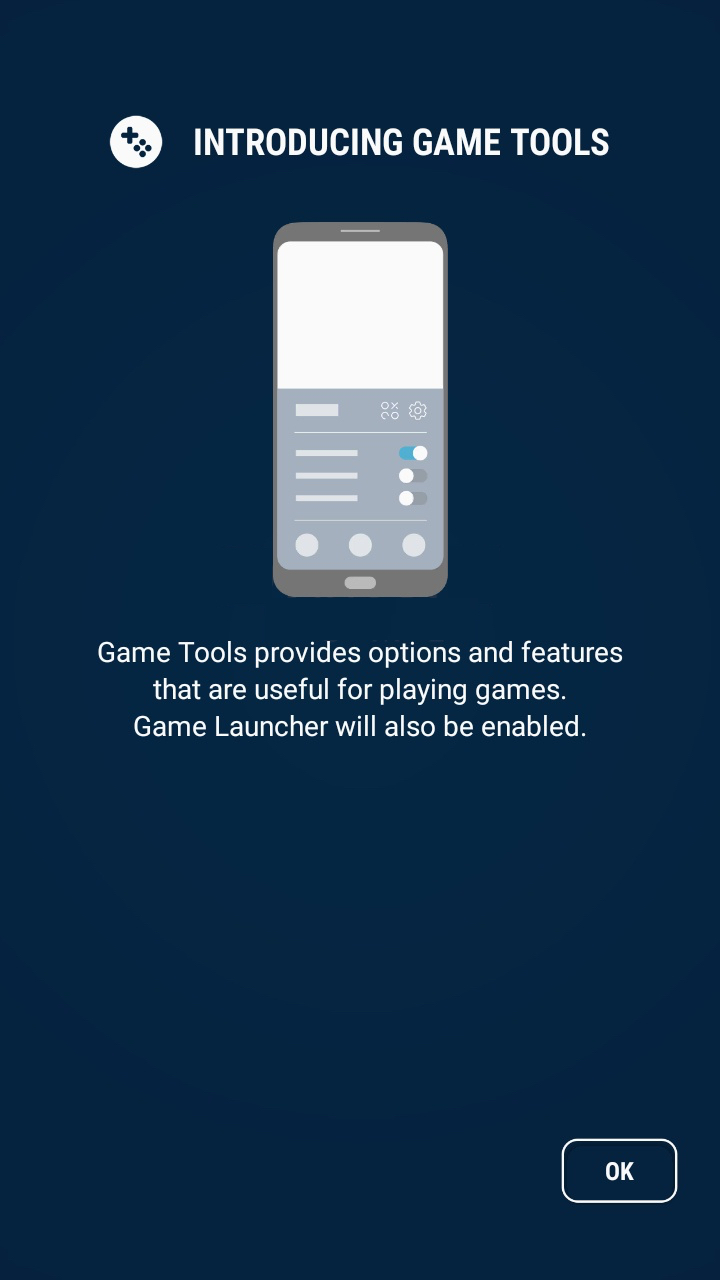BackgroundImage: (1, 1, 720, 1280)
Image: (273, 222, 449, 598), (110, 116, 164, 170)
Text: (98, 639, 623, 738), (195, 128, 610, 157)
TextButton: (561, 1138, 679, 1204)
